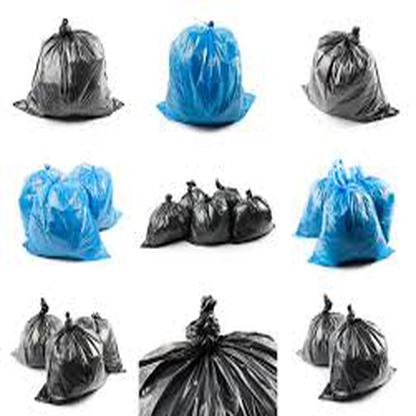plastic bag: (138, 295, 278, 416), (10, 299, 128, 405), (10, 17, 130, 120), (295, 293, 398, 402), (154, 20, 256, 128), (17, 160, 125, 260), (297, 161, 399, 265), (139, 176, 281, 249), (300, 24, 401, 121)
